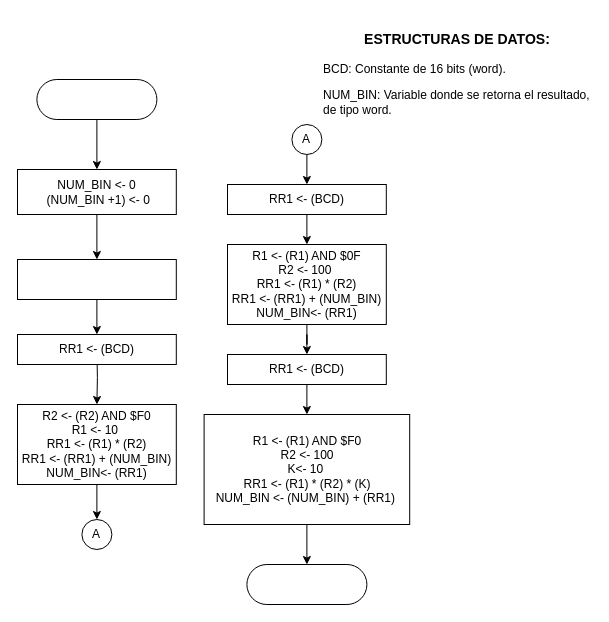
Some shapes in this 609 by 622 pixel diagram are drawn without their labels. Here are the shapes that lost their labels. From the top down, the centre of each, then its label:
pixel 96 99: BCD-BIN
pixel 96 279: R2 <- (R2) AND $0F NUM_BIN<- (R2)
pixel 306 584: REGRESAR
